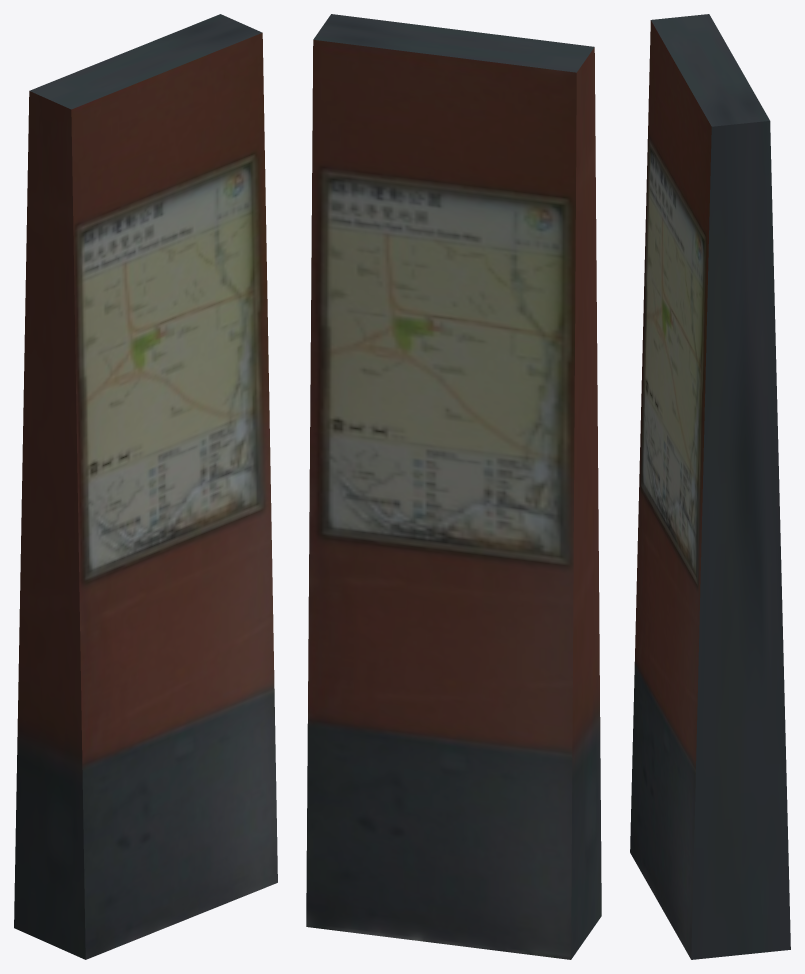
The picture shows the model from 3 angles, left to right: view 1: azimuth 30°, elevation 25°; view 2: azimuth 150°, elevation 25°; view 3: azimuth 270°, elevation 25°; orthographic projection. The views are drawn at different scales.
Parts seen in each view (by area): view 1: Box3; view 2: Box3; view 3: Box3.
Boxes of the visible parts, <box> form: Box3: <box>14,14,277,959</box>; Box3: <box>306,14,601,959</box>; Box3: <box>630,14,790,959</box>.
Size of the model in its own units: 0.4573 by 1.51 by 0.2646.
Materials: 1 (1 with a texture image).
